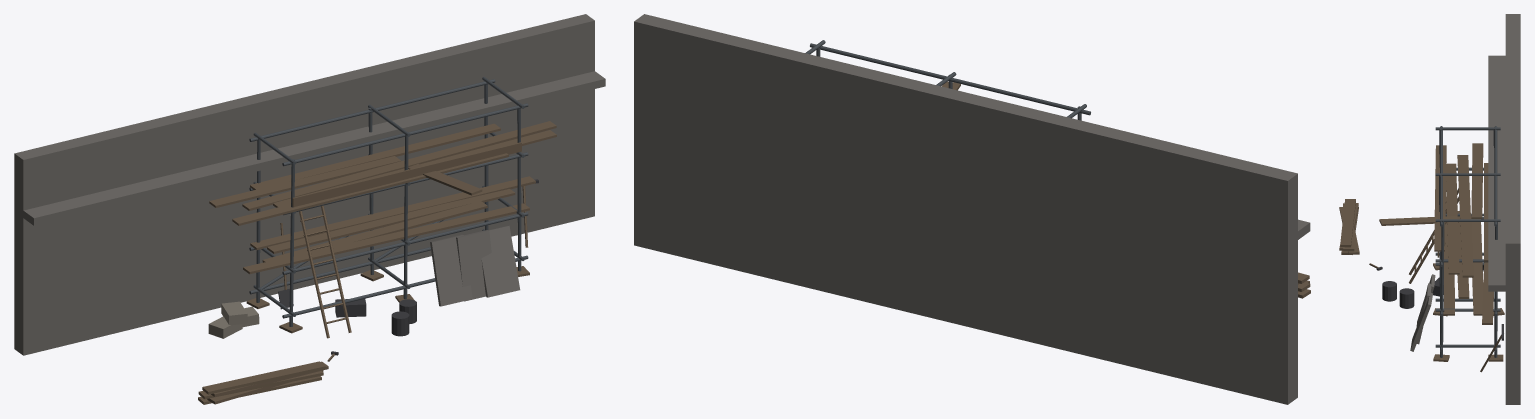
File: Site.glb
3 renders of one model, left to right at view 1: azimuth 30°, elevation 25°; view 2: azimuth 150°, elevation 25°; view 3: azimuth 270°, elevation 25°, orthographic. The views are drawn at different scales.
Parts seen in each view (by area): view 1: Wall, Ledge, Plank1_2, Plank0_3, Toe1, Plank0_0, Plank0_1, Slab2, Plank1_0, Slab0, Slab1, Plank1_1 (+15 smaller); view 2: Wall, Ledger3_-0.95; view 3: Wall, Ledge, Plank1_2, Plank1_3, Plank0_1, Plank1_1, Plank1_4, Plank0_3, Stack4, Plank0_0, Overhang, Plank1_0 (+14 smaller).
Part boxes in pixels (x1,y1,x2,y2): Wall: (14, 14, 594, 355); Ledge: (23, 71, 605, 225); Plank1_2: (242, 121, 556, 210); Plank0_3: (243, 203, 529, 274); Toe1: (292, 142, 521, 207); Plank0_0: (250, 176, 535, 249); Plank0_1: (267, 189, 515, 253); Slab2: (481, 225, 520, 297); Plank1_0: (250, 123, 500, 189); Slab0: (430, 234, 472, 306); Slab1: (456, 230, 491, 301); Plank1_1: (209, 156, 400, 207); Wall: (634, 14, 1297, 404); Ledger3_-0.95: (810, 43, 1090, 115); Wall: (1505, 14, 1520, 404); Ledge: (1488, 55, 1505, 291); Plank1_2: (1457, 155, 1473, 277); Plank1_3: (1446, 163, 1459, 274); Plank0_1: (1471, 216, 1483, 315); Plank1_1: (1471, 143, 1483, 218); Plank1_4: (1434, 145, 1446, 251); Plank0_3: (1444, 197, 1454, 315); Stack4: (1340, 199, 1355, 247); Plank0_0: (1482, 262, 1493, 324); Overhang: (1379, 216, 1458, 225); Plank1_0: (1484, 163, 1488, 261).
Size of what is drawn, in the model's own units: 11 by 3.63 by 3.67.
